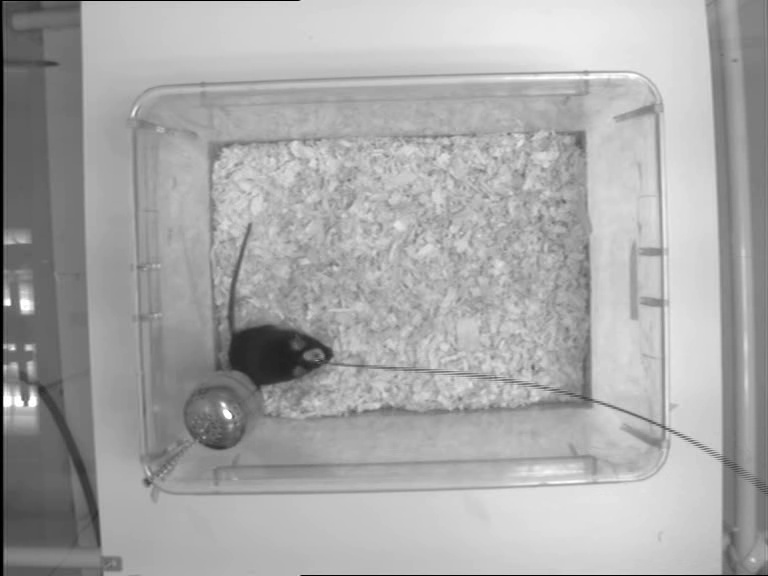mice: (226, 220, 338, 388)
